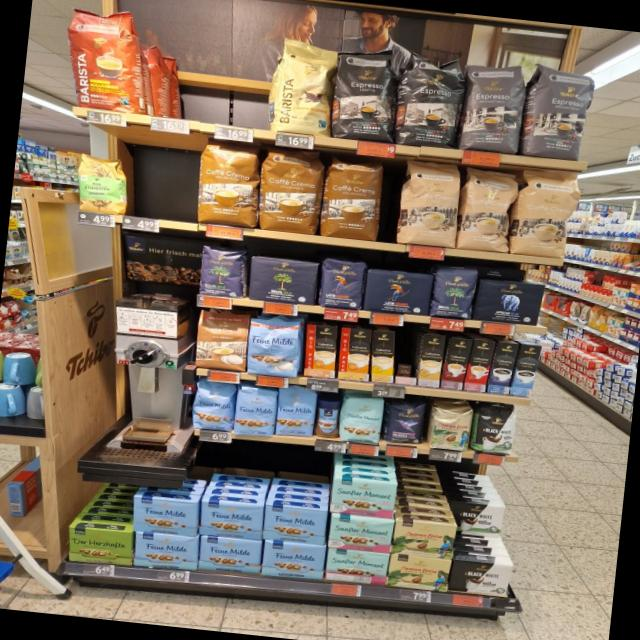AB Gemahlen: (475, 278, 549, 328)
Athiopien Bohne: (72, 149, 132, 216)
BM Bohne: (196, 243, 249, 300), (429, 263, 478, 321)
BM Gemahlen: (246, 254, 319, 306)
BW Bohne: (470, 403, 520, 455)
BW Gemahlen: (449, 558, 511, 598)
Barista CB: (270, 34, 338, 136)
Barista Kolumbien: (60, 3, 150, 114)
C Fino Bohne: (383, 400, 427, 446)
CC Mild: (514, 168, 584, 260), (397, 157, 464, 249), (458, 164, 520, 253)
CC Vollmundig: (194, 308, 251, 372)
CC Vollmundig 36 Pads: (192, 136, 264, 228), (257, 143, 326, 234), (320, 152, 386, 242)
Colombia BB Bohne: (428, 402, 474, 453)
Colombia BB Gemahlen: (386, 552, 451, 594), (392, 517, 454, 560)
Espresso Aromatisch: (522, 59, 598, 162), (458, 61, 528, 155)
Espresso Kraftig: (393, 50, 467, 148), (330, 46, 401, 142)
FM 36 Pads: (245, 315, 304, 378)
FM Bohne: (189, 376, 236, 432), (234, 382, 280, 437), (273, 385, 318, 439)
FM Gemahlen: (260, 502, 328, 546), (129, 494, 200, 536), (131, 530, 199, 572), (198, 534, 264, 576), (260, 540, 326, 581), (197, 500, 264, 540)
FM Instant: (314, 394, 342, 440)
Herzhatfe Mundig: (64, 525, 136, 567)
LG Bohne: (317, 255, 367, 311)
LG Gemahlen: (364, 266, 434, 318)
SM Bohne: (338, 392, 384, 446)
SM Gemahlen: (330, 474, 398, 518), (326, 512, 394, 554), (324, 547, 390, 587)
Simo CCMild bigpack: (371, 329, 395, 382)
Simo CCVollmundig: (302, 323, 339, 378), (336, 327, 372, 381)
Simo Decaff: (418, 334, 444, 388)
Simo Es Brazil: (462, 338, 495, 392)
Simo Es Caramel: (440, 336, 473, 389)
Simo Es Kraft: (486, 340, 518, 394)
Simo Es Vanilla: (509, 343, 542, 396)
